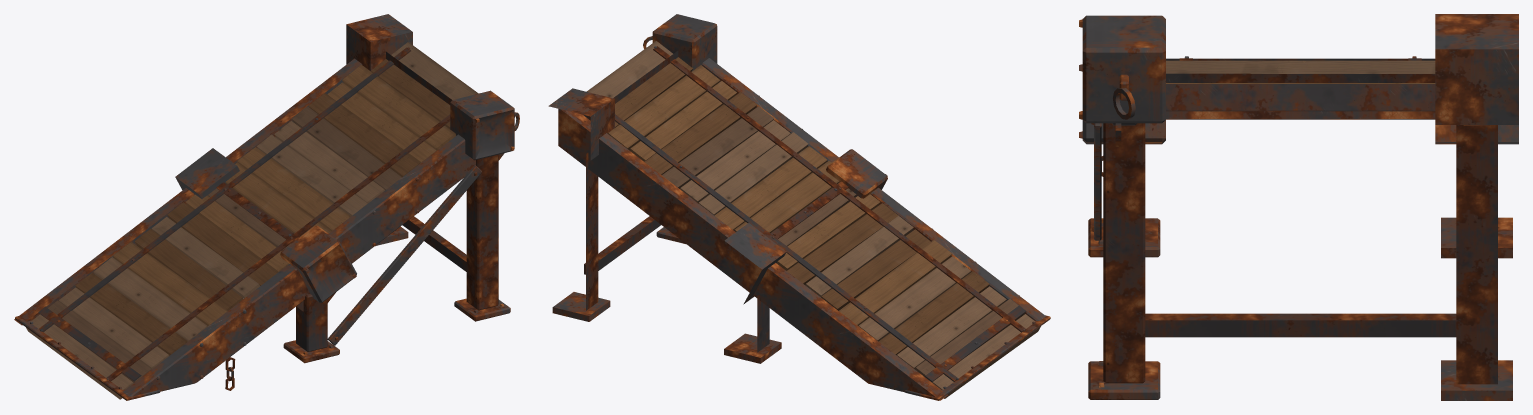
Rendered from Slope_30.glb.
3 views of the same model, side by side, from view 1: azimuth 30°, elevation 25°; view 2: azimuth 150°, elevation 25°; view 3: azimuth 270°, elevation 25° (orthographic). The views are drawn at different scales.
Parts seen in each view (by area): view 1: Slope_30; view 2: Slope_30; view 3: Slope_30.
Boxes of the visible parts, x1,y1,x2,y2 form: Slope_30: (14,14,519,400); Slope_30: (548,14,1050,400); Slope_30: (1079,14,1518,400).
Size of the model in its own units: 4.18 by 2.2 by 2.32.
Materials: 4 (4 with a texture image).
